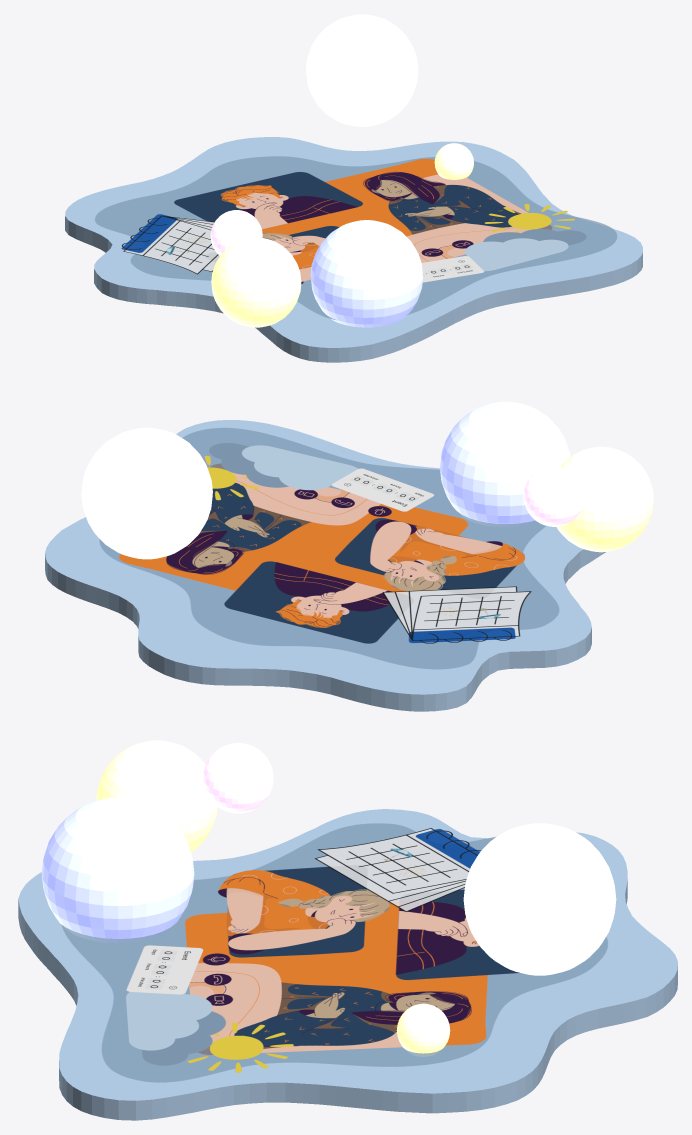
File: herologlow.glb
The picture shows the model from 3 angles, top to bottom: view 1: azimuth 30°, elevation 25°; view 2: azimuth 150°, elevation 25°; view 3: azimuth 270°, elevation 25°; orthographic projection. The views are drawn at different scales.
Visible parts, largest first — view 1: hero-logo, Plane.005, Sphere.001, Sphere.004, Sphere.002, Sphere.003, Sphere.005; view 2: hero-logo, Plane.005, Sphere.001, Sphere.004, Sphere.002, Sphere.003; view 3: hero-logo, Plane.005, Sphere.001, Sphere.004, Sphere.002, Sphere.003, Sphere.005.
Boxes of the visible parts, box(x1,y1,x2,y2) form: hero-logo: box(95, 156, 616, 320); Plane.005: box(65, 137, 642, 362); Sphere.001: box(306, 14, 418, 126); Sphere.004: box(310, 220, 423, 327); Sphere.002: box(211, 237, 301, 327); Sphere.003: box(210, 210, 262, 255); Sphere.005: box(434, 143, 473, 179); hero-logo: box(99, 428, 559, 669); Plane.005: box(45, 420, 605, 711); Sphere.001: box(81, 427, 212, 559); Sphere.004: box(440, 401, 570, 526); Sphere.002: box(556, 446, 653, 552); Sphere.003: box(523, 466, 584, 526); hero-logo: box(61, 823, 607, 1082); Plane.005: box(18, 809, 677, 1120); Sphere.001: box(463, 823, 616, 975); Sphere.004: box(41, 797, 194, 942); Sphere.002: box(96, 740, 217, 851); Sphere.003: box(203, 743, 273, 813); Sphere.005: box(396, 1003, 450, 1056).
Size of the model in its own units: 3.57 by 1.2 by 3.4.
6 materials, 1 textured.
